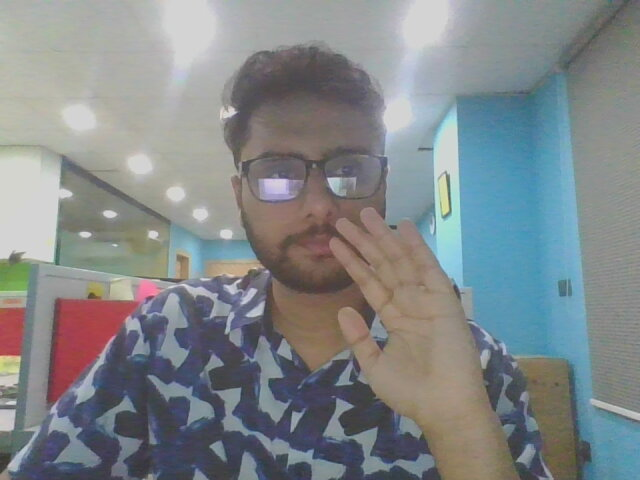hello: (316, 202, 519, 448)
